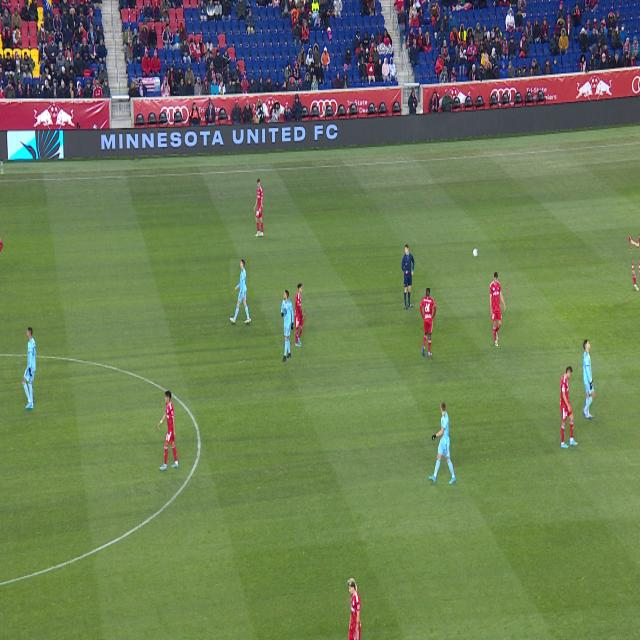football: (473, 248, 478, 257)
player: (429, 402, 456, 484), (158, 391, 179, 470), (560, 367, 578, 449), (231, 260, 250, 324), (490, 273, 506, 347), (22, 328, 36, 409), (420, 288, 436, 357), (583, 340, 595, 419), (281, 290, 294, 361), (347, 578, 361, 640), (295, 283, 304, 347), (254, 179, 264, 236), (633, 244, 639, 291), (629, 234, 640, 247)
referee: (401, 244, 415, 310)
